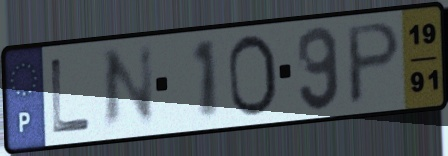1: (188, 36, 220, 125)
9: (295, 23, 343, 114)
L: (48, 54, 94, 136)
N: (100, 41, 158, 136)
O: (225, 32, 281, 120)
P: (345, 18, 404, 109)
